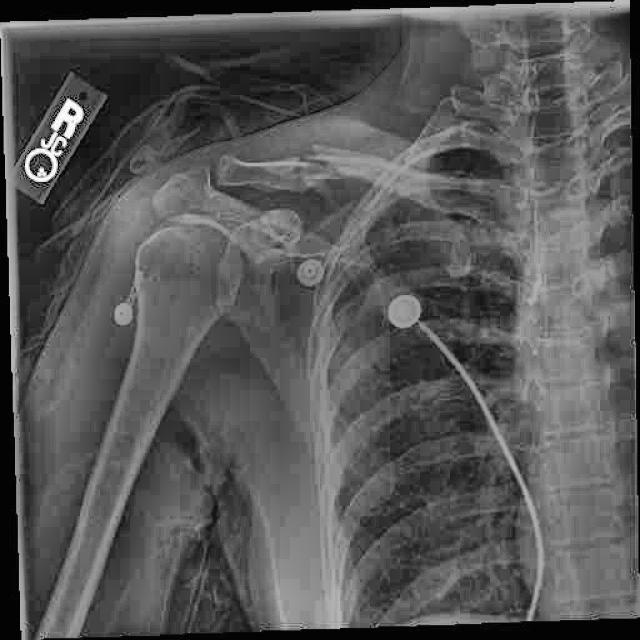shoulder fracture: (263, 120, 366, 219)
